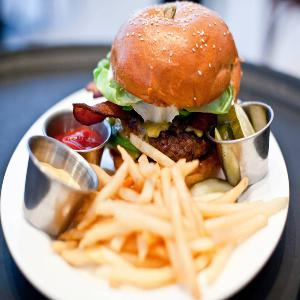cheeseburger_475cal: (88, 1, 257, 179)
fries_350cal: (64, 152, 274, 289)
